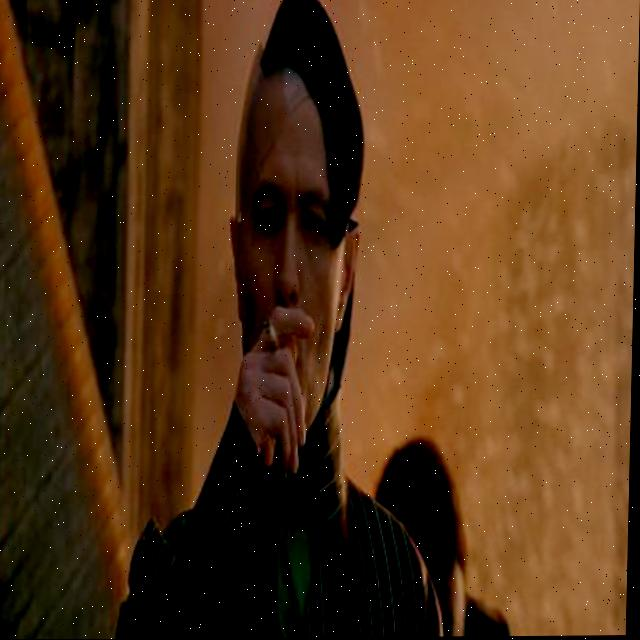cigarette: (261, 317, 283, 354)
